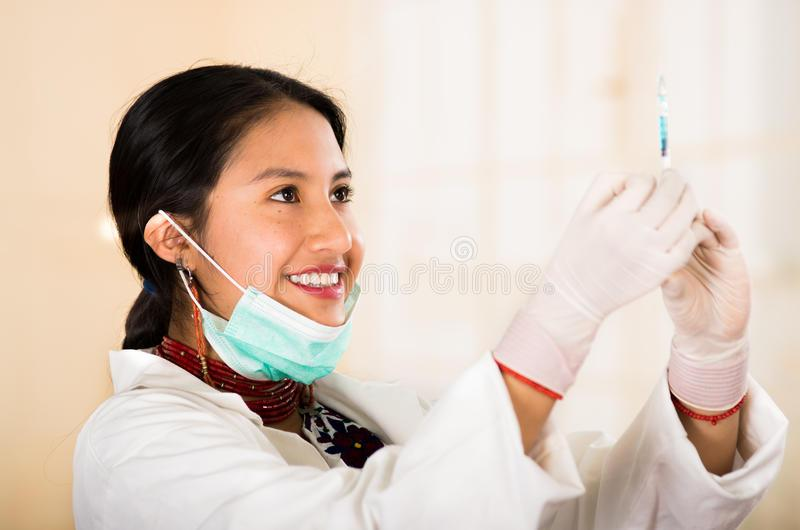Wore Mask Incorrectly: (134, 60, 388, 401)
